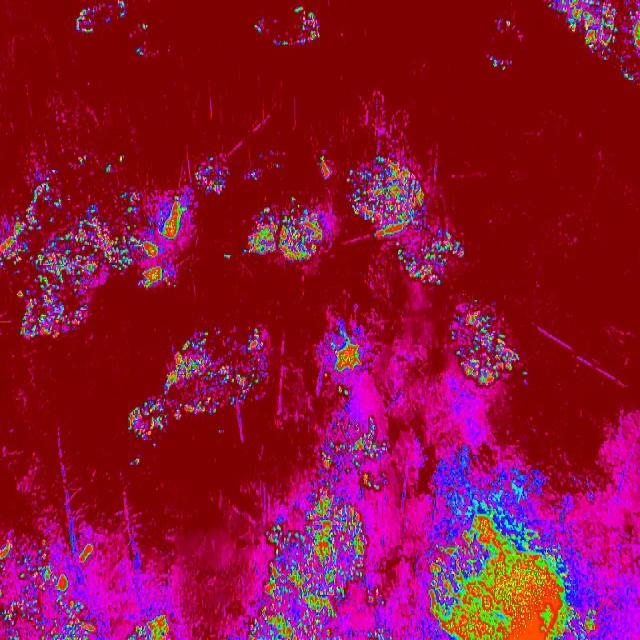fire: (0, 179, 203, 339), (426, 459, 598, 640), (255, 427, 390, 640), (123, 326, 274, 446), (0, 540, 174, 640), (338, 154, 434, 247), (449, 296, 524, 386), (544, 0, 640, 59), (248, 201, 328, 269), (396, 228, 470, 294), (320, 332, 370, 376)
